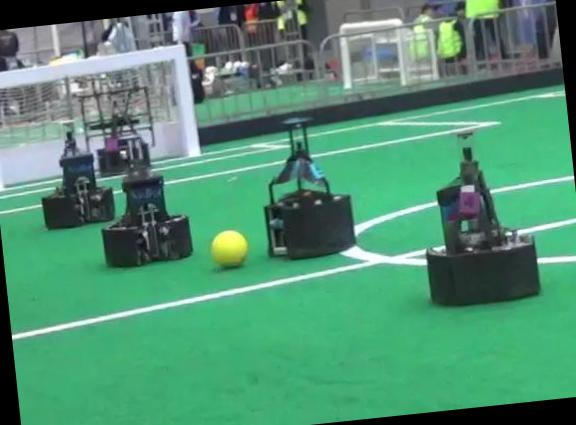ball: (211, 229, 247, 266)
goal: (170, 44, 200, 156)
robot: (426, 131, 539, 305), (264, 117, 355, 258), (102, 134, 192, 266), (41, 131, 115, 228), (78, 85, 154, 175)
